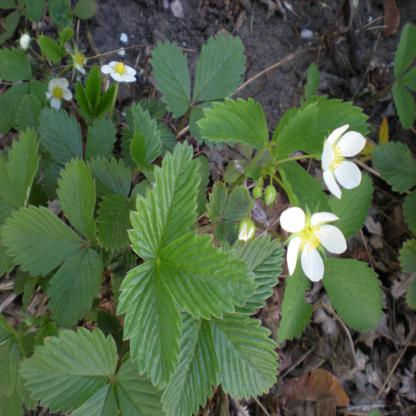Strawberry leaf: (125, 143, 203, 265), (160, 236, 265, 322), (114, 262, 185, 382)
